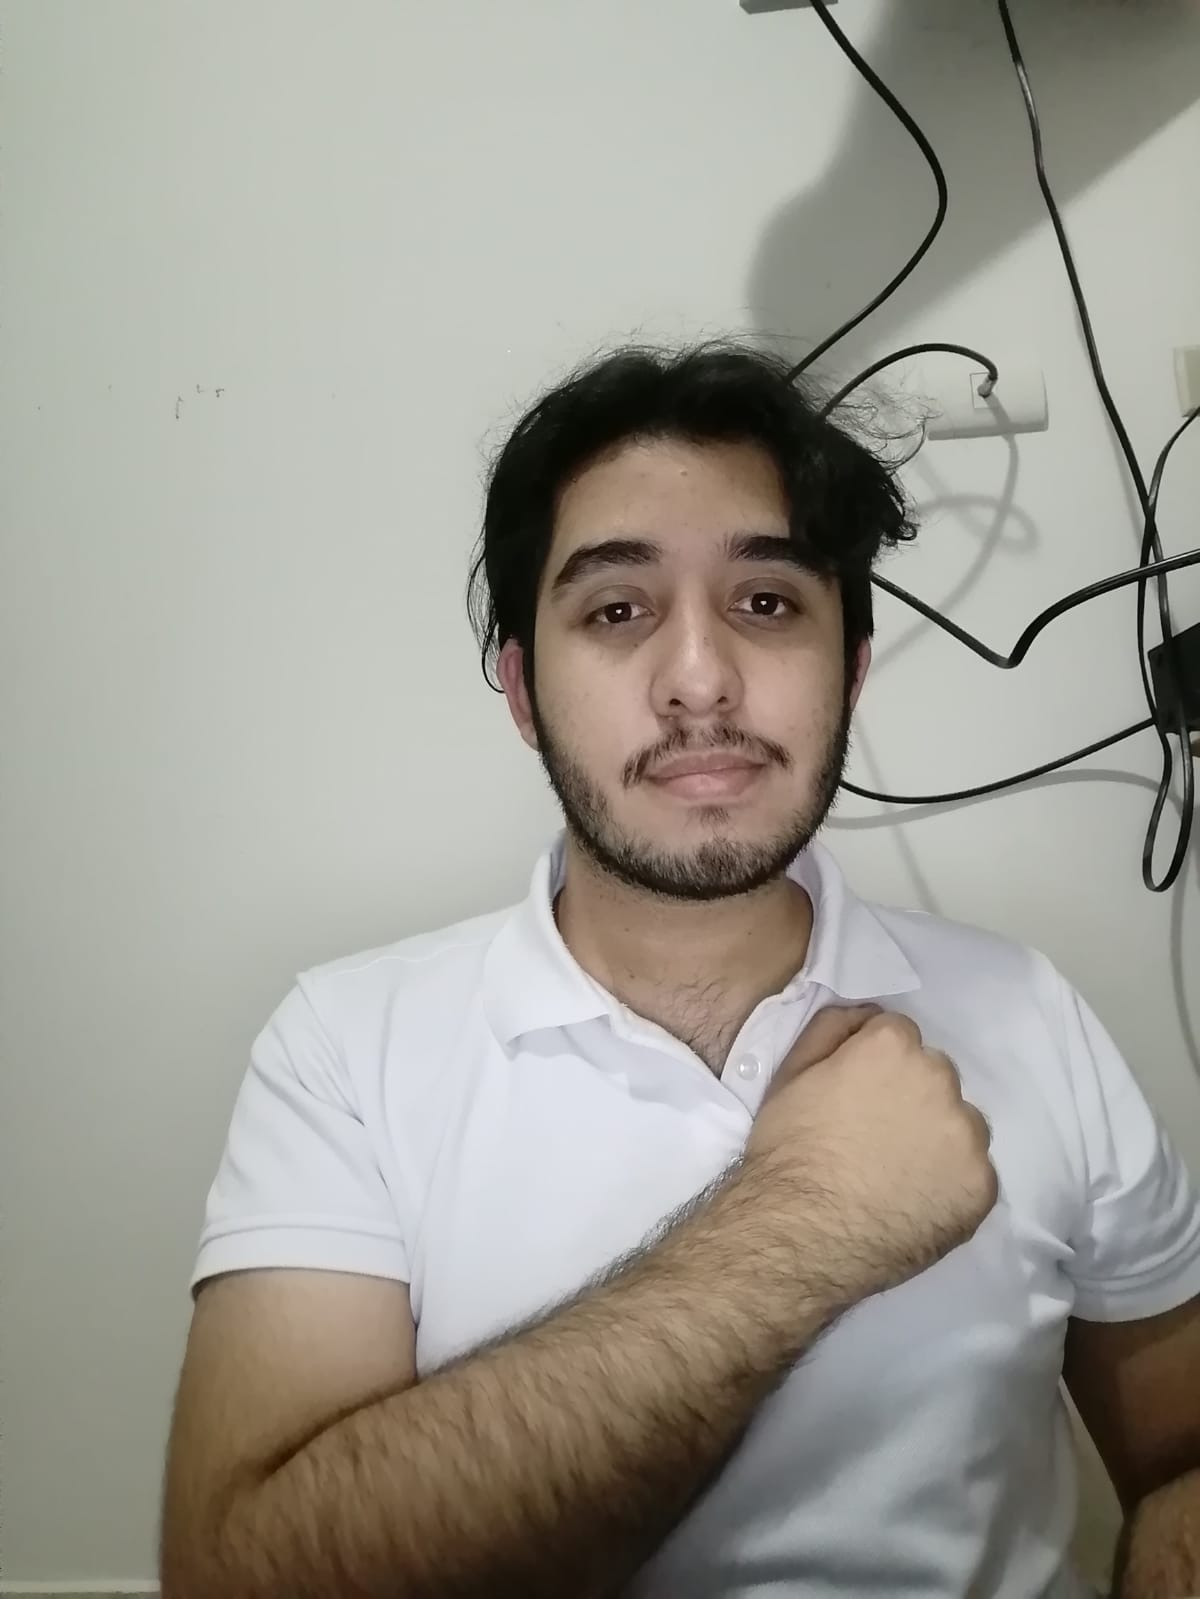Sorry: (471, 989, 1002, 1510)
